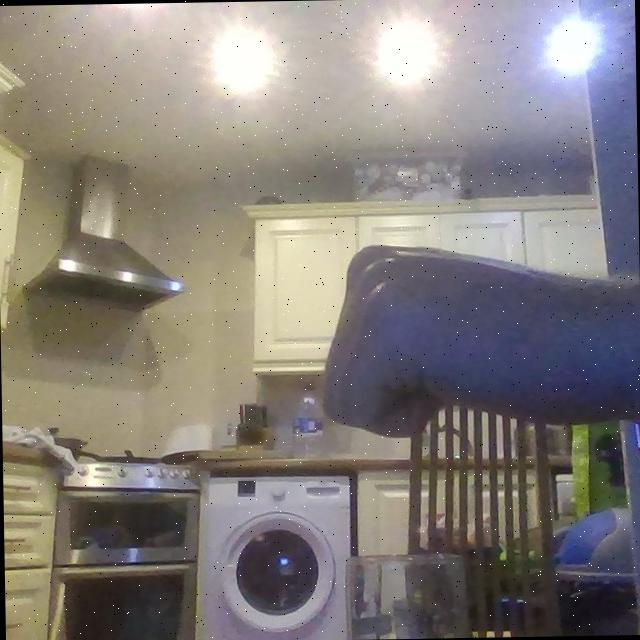rock: (315, 234, 617, 457)
